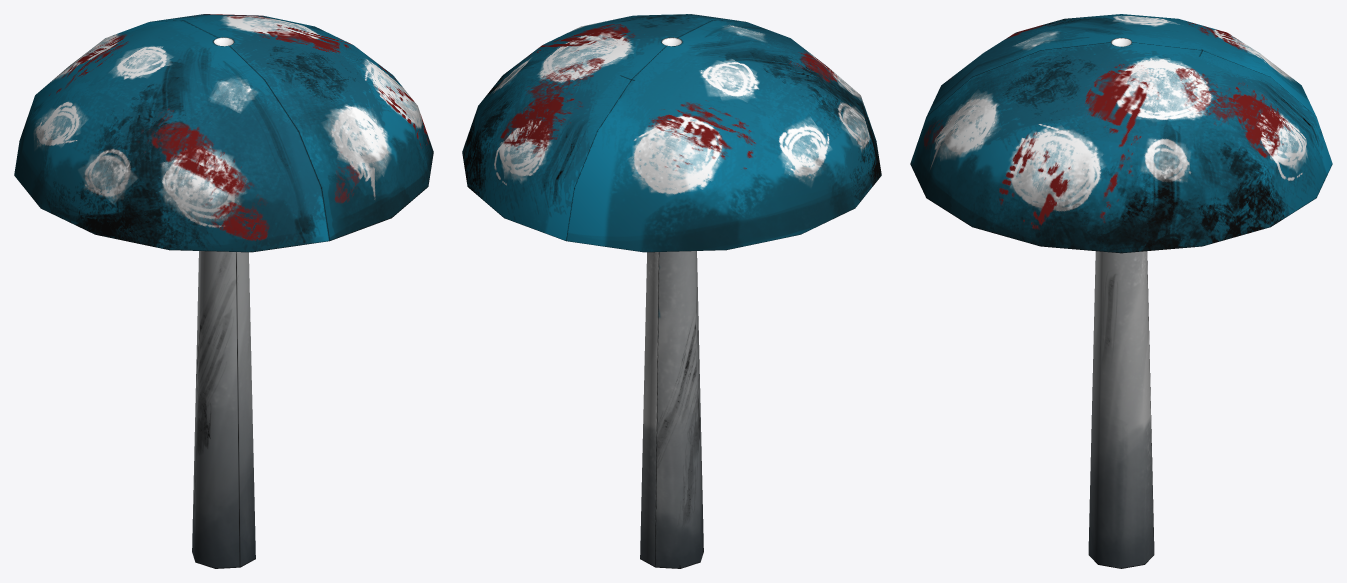
The model's file is WaterMushroom_Asset.fbx.
The picture shows the model from 3 angles, left to right: view 1: azimuth 30°, elevation 25°; view 2: azimuth 150°, elevation 25°; view 3: azimuth 270°, elevation 25°; orthographic projection.
Visible parts, largest first — view 1: WaterMushroom; view 2: WaterMushroom; view 3: WaterMushroom.
Boxes of the visible parts, box(x1,y1,x2,y2) form: WaterMushroom: box(14, 14, 433, 568); WaterMushroom: box(462, 14, 881, 568); WaterMushroom: box(910, 14, 1332, 568).
Bounding box in the file's own units: 187 × 187 × 250.
